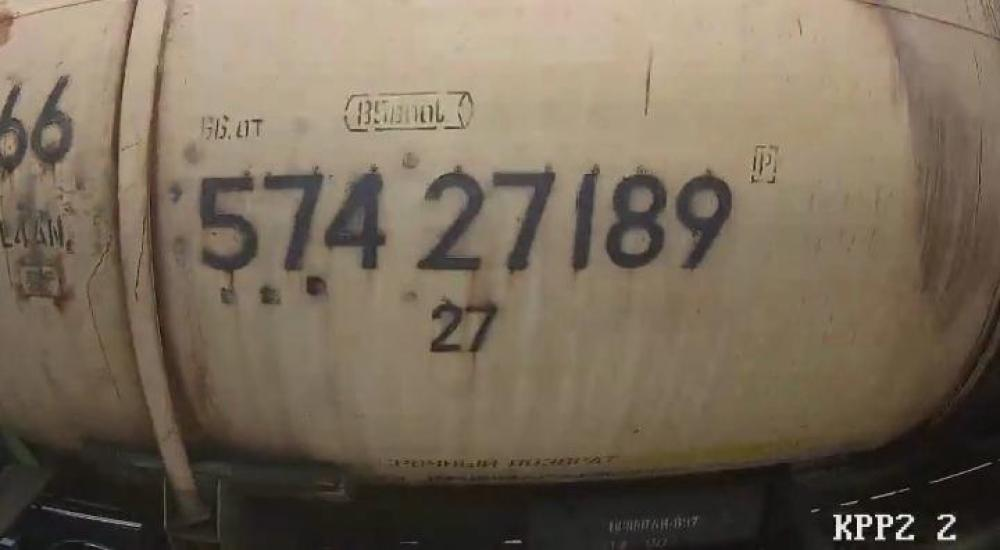Wagon-number: (191, 164, 736, 274)
